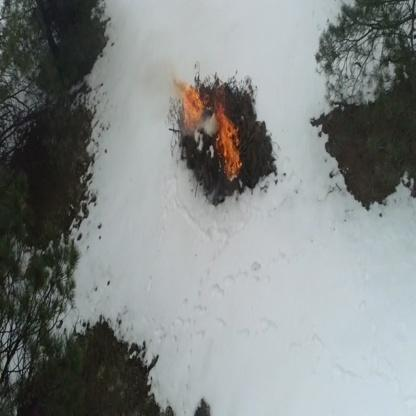Fire: (216, 89, 229, 148), (223, 140, 240, 177), (184, 89, 199, 129), (224, 122, 238, 142), (204, 95, 214, 104), (176, 82, 187, 90)
